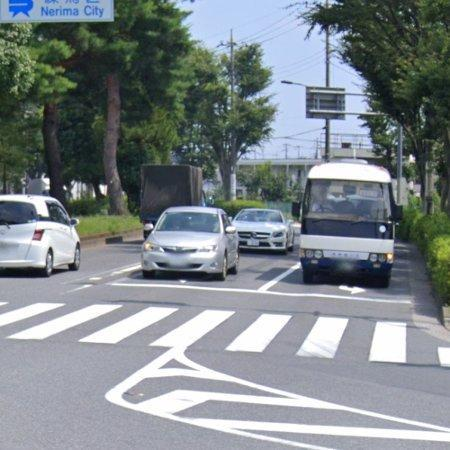crosswalks: (0, 302, 450, 369)
